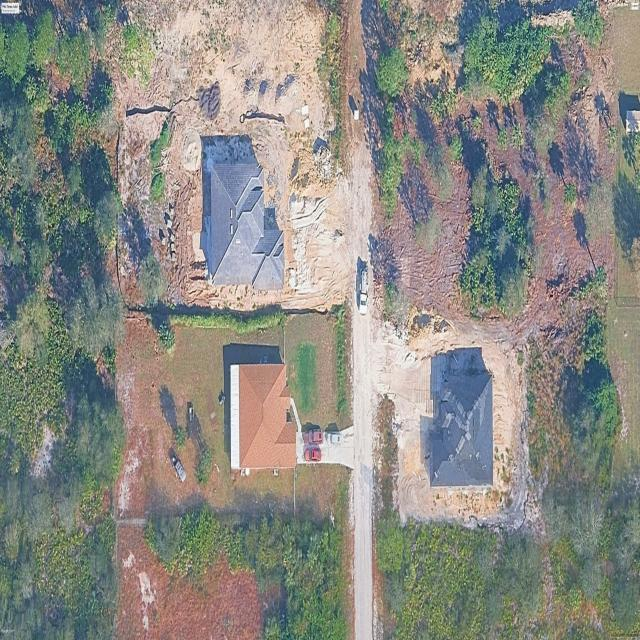Home: (201, 136, 285, 291), (226, 345, 296, 471), (428, 352, 493, 487)
